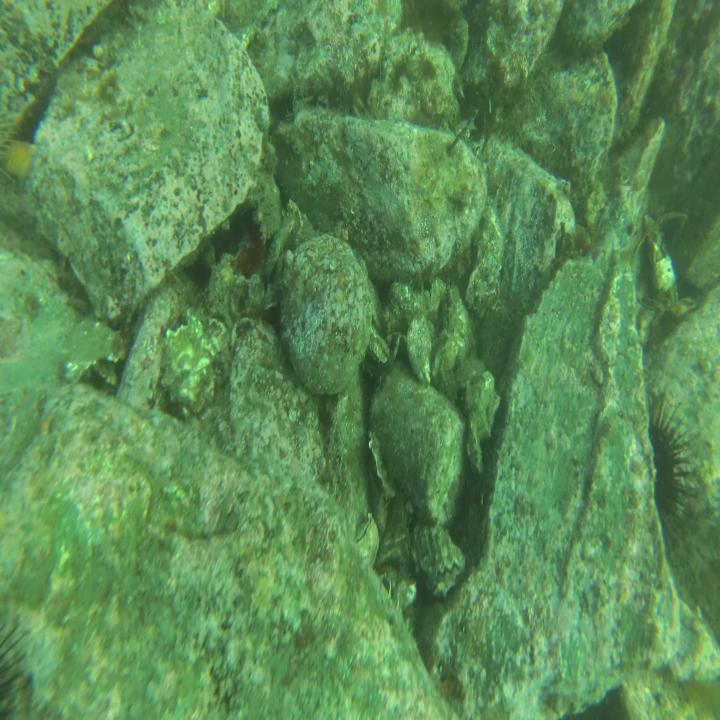echinus: (640, 392, 698, 538)
